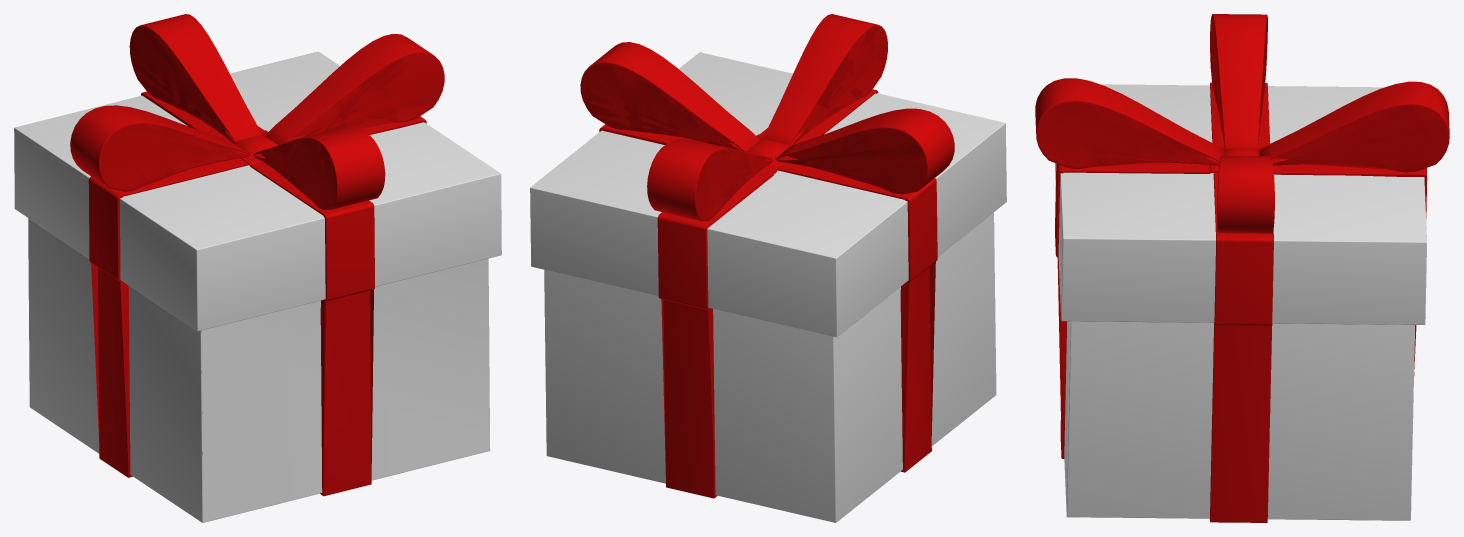
File: Gift-Box.glb
3 views of the same model, side by side, from view 1: azimuth 30°, elevation 25°; view 2: azimuth 150°, elevation 25°; view 3: azimuth 270°, elevation 25° (orthographic). The views are drawn at different scales.
Visible parts, largest first — view 1: Component_7_1.5, Component_8_1.7, Component_4_1.10, Component_12_4.34, Component_4_3.16, Component_12_3.31, Component_12_1.25, Component_12_2.28, Component_4_2.12, Component_11_1.22; view 2: Component_7_1.5, Component_8_1.7, Component_4_2.12, Component_12_4.34, Component_4_3.16, Component_12_3.31, Component_12_2.28, Component_12_1.25, Component_11_1.22, Component_4_1.10, Component_4_4.18; view 3: Component_7_1.5, Component_8_1.7, Component_4_4.18, Component_12_1.25, Component_12_2.28, Component_12_3.31, Component_12_4.34, Component_4_1.10, Component_4_2.12, Component_4_3.16, Component_11_1.22.
Part boxes in pixels (<box>): Component_7_1.5: <box>28,218,490,522</box>; Component_8_1.7: <box>14,51,501,331</box>; Component_4_1.10: <box>252,163,374,496</box>; Component_12_4.34: <box>265,34,444,145</box>; Component_4_3.16: <box>88,159,239,477</box>; Component_12_3.31: <box>70,105,250,191</box>; Component_12_1.25: <box>129,14,261,142</box>; Component_12_2.28: <box>253,127,385,210</box>; Component_4_2.12: <box>141,91,261,138</box>; Component_11_1.22: <box>224,129,278,167</box>; Component_7_1.5: <box>544,212,996,522</box>; Component_8_1.7: <box>530,52,1006,337</box>; Component_4_2.12: <box>657,169,774,498</box>; Component_12_4.34: <box>580,42,760,151</box>; Component_4_3.16: <box>786,164,937,472</box>; Component_12_3.31: <box>775,108,954,194</box>; Component_12_2.28: <box>763,14,887,146</box>; Component_12_1.25: <box>647,139,773,220</box>; Component_11_1.22: <box>746,132,801,173</box>; Component_4_1.10: <box>762,89,878,141</box>; Component_4_4.18: <box>599,124,699,144</box>; Component_7_1.5: <box>1064,321,1414,520</box>; Component_8_1.7: <box>1055,84,1426,324</box>; Component_4_4.18: <box>1209,176,1273,522</box>; Component_12_1.25: <box>1259,81,1449,172</box>; Component_12_2.28: <box>1035,78,1223,168</box>; Component_12_3.31: <box>1210,14,1267,149</box>; Component_12_4.34: <box>1217,155,1274,233</box>; Component_4_1.10: <box>1055,162,1203,458</box>; Component_4_2.12: <box>1280,164,1427,375</box>; Component_4_3.16: <box>1210,82,1270,143</box>; Component_11_1.22: <box>1203,146,1280,174</box>.
Bounding box in the file's own units: 2.11 × 2.04 × 2.11.
